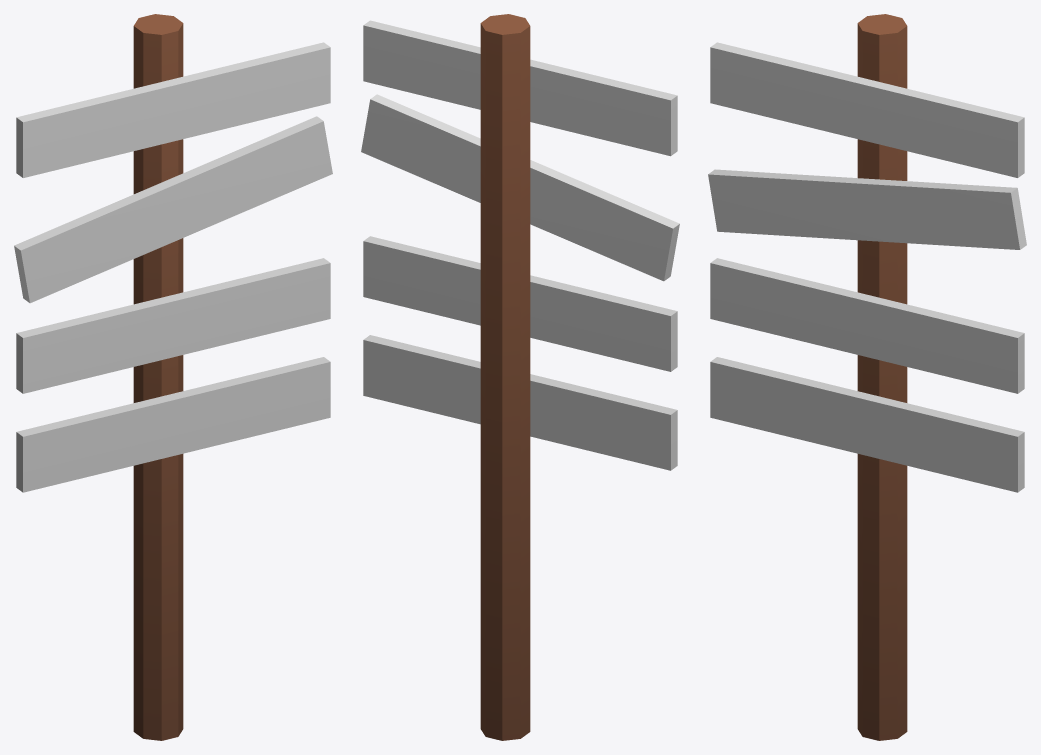
The model's file is information post.fbx.
3 views of the same model, side by side, from view 1: azimuth 30°, elevation 25°; view 2: azimuth 150°, elevation 25°; view 3: azimuth 330°, elevation 25° (orthographic).
Parts seen in each view (by area): view 1: information post; view 2: information post; view 3: information post.
Boxes of the visible parts, left/top/right/bottom form: information post: left=14, top=14, right=332, bottom=740; information post: left=361, top=14, right=679, bottom=740; information post: left=708, top=14, right=1026, bottom=740.
Bounding box in the file's own units: 138 × 298 × 22.92.
